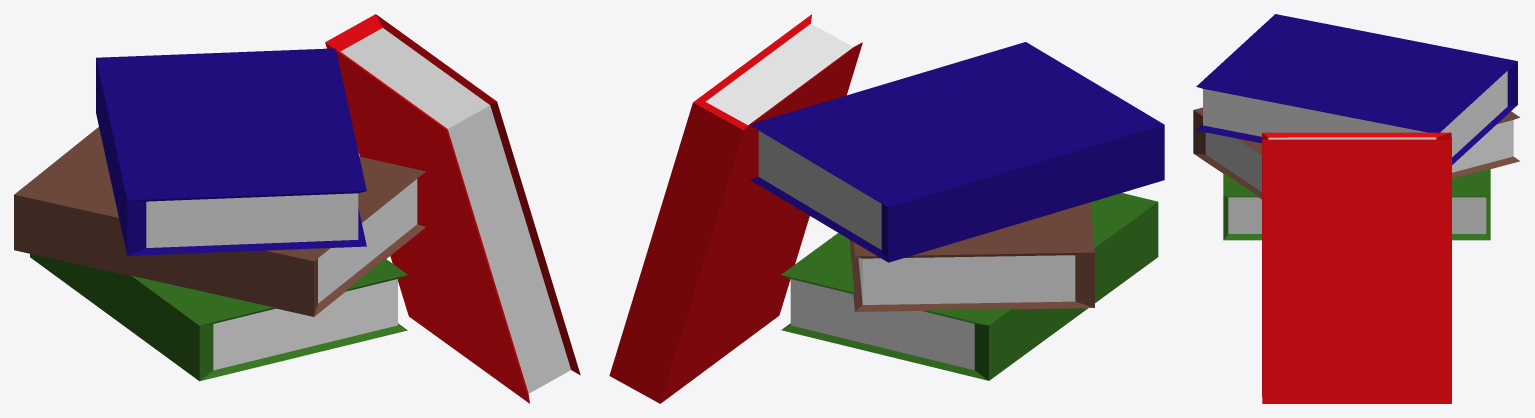
The model's file is libros.fbx.
The picture shows the model from 3 angles, left to right: view 1: azimuth 30°, elevation 25°; view 2: azimuth 150°, elevation 25°; view 3: azimuth 270°, elevation 25°; orthographic projection. The views are drawn at different scales.
Parts seen in each view (by area): view 1: Cube.003, Cube, Cube.001, Cube.002; view 2: Cube.003, Cube, Cube.002, Cube.001; view 3: Cube, Cube.003, Cube.001, Cube.002.
Part boxes in pixels (bbox=[...]): Cube.003: bbox=[96, 48, 366, 255]; Cube: bbox=[325, 14, 580, 403]; Cube.001: bbox=[14, 127, 425, 316]; Cube.002: bbox=[30, 254, 407, 381]; Cube.003: bbox=[750, 42, 1164, 262]; Cube: bbox=[609, 14, 862, 403]; Cube.002: bbox=[781, 193, 1158, 380]; Cube.001: bbox=[849, 202, 1094, 311]; Cube: bbox=[1262, 132, 1451, 403]; Cube.003: bbox=[1196, 14, 1517, 164]; Cube.001: bbox=[1193, 107, 1519, 199]; Cube.002: bbox=[1223, 168, 1490, 240].
Size of the model in its own units: 318 by 202 by 245.
